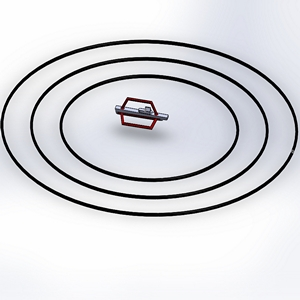circle: (1, 33, 300, 229)
submarine: (106, 87, 174, 147)
